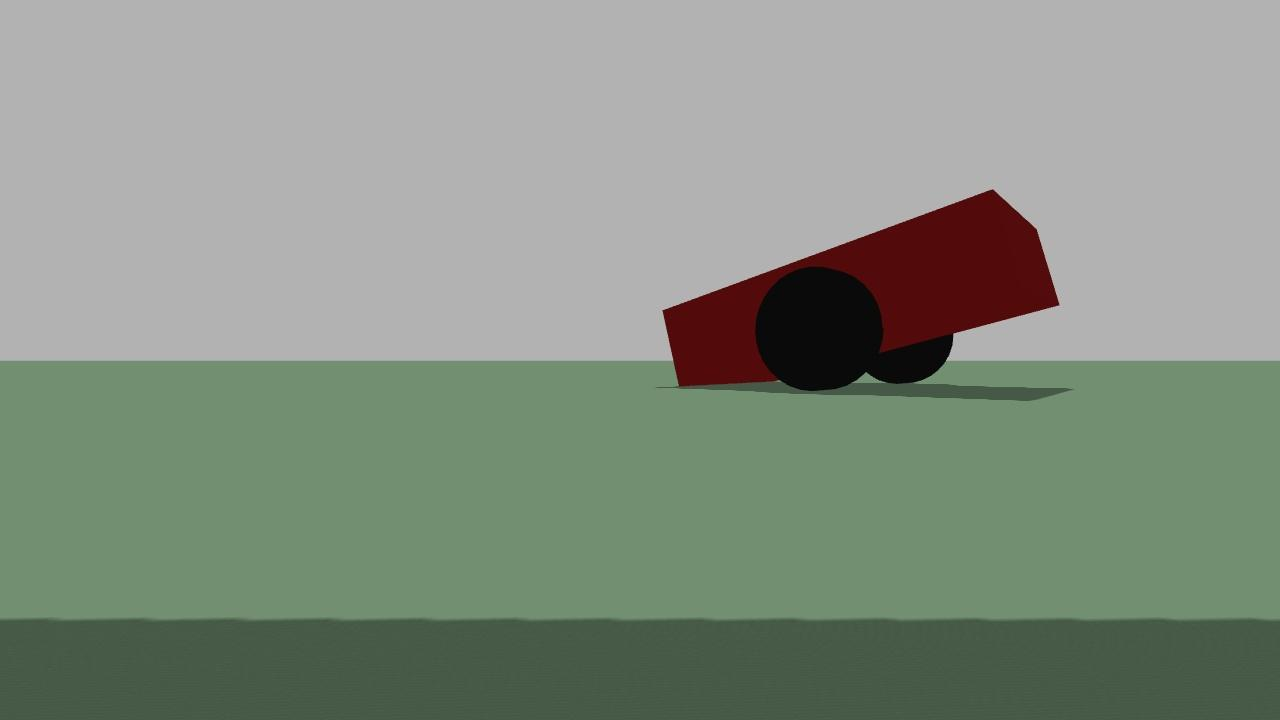ground_vehicle: (623, 187, 1078, 412)
